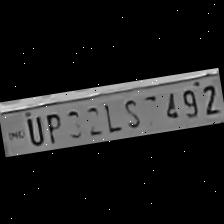2: (196, 80, 222, 116), (80, 100, 104, 136)
3: (61, 104, 85, 140)
4: (156, 87, 182, 121)
9: (176, 84, 200, 118)
L: (97, 98, 122, 134)
P: (40, 109, 65, 144)
S: (119, 93, 146, 129)
U: (21, 112, 46, 146)
